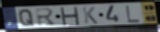4: (105, 4, 123, 25)
H: (59, 7, 81, 26)
K: (82, 6, 100, 25)
L: (125, 4, 142, 23)
Q: (18, 9, 36, 27)
R: (34, 7, 58, 27)
